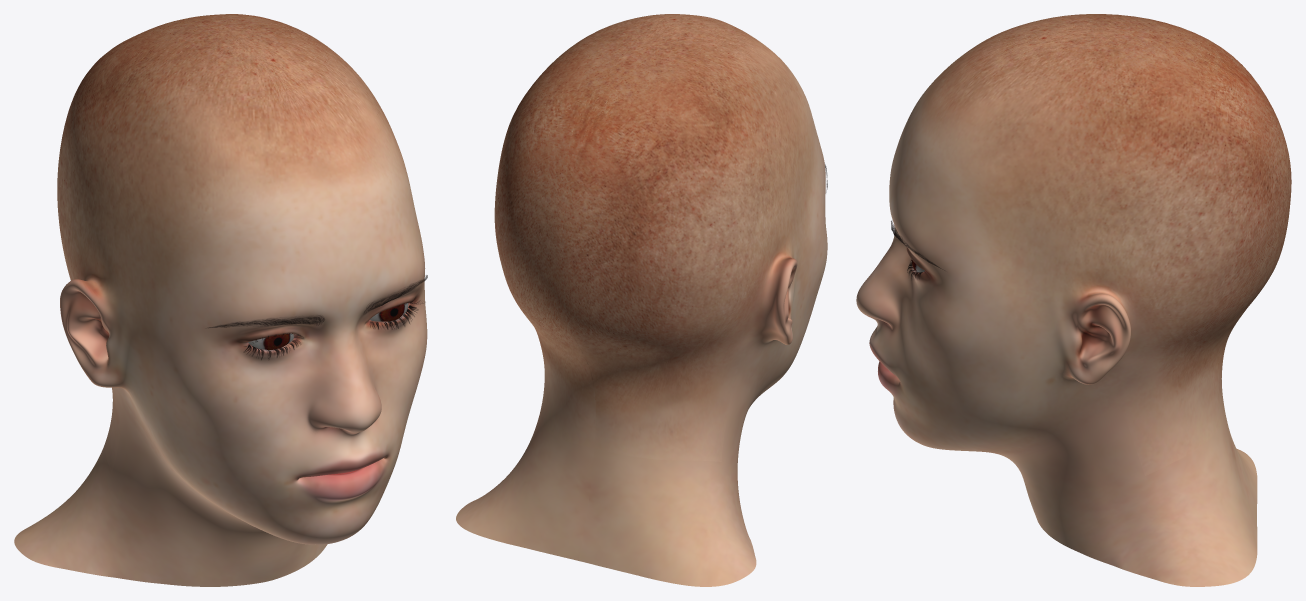
Rendered from head.glb.
3 views of the same model, side by side, from view 1: azimuth 30°, elevation 25°; view 2: azimuth 150°, elevation 25°; view 3: azimuth 270°, elevation 25° (orthographic). The views are drawn at different scales.
Parts seen in each view (by area): view 1: surface.head, surface.human.eyebrow001, surface.human.low-poly, surface.human.eyelashes01; view 2: surface.head; view 3: surface.head.
Part boxes in pixels (bbox=[...]): surface.head: bbox=[14, 14, 427, 586]; surface.human.eyebrow001: bbox=[208, 275, 427, 327]; surface.human.low-poly: bbox=[248, 303, 408, 349]; surface.human.eyelashes01: bbox=[243, 300, 423, 359]; surface.head: bbox=[456, 14, 827, 586]; surface.head: bbox=[856, 14, 1291, 586].
Bounding box in the file's own units: 0.1645 × 0.2538 × 0.2064.
4 materials, 4 textured.
